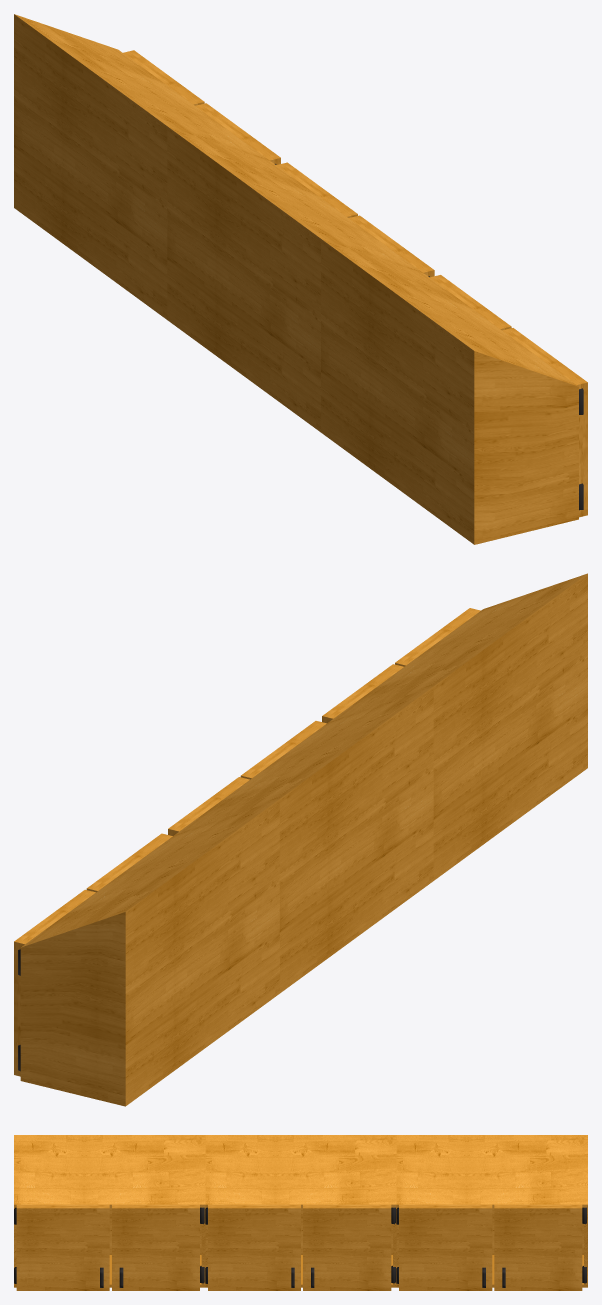
Rendered from supply_cabinets_2.fbx.
3 renders of one model, top to bottom at view 1: azimuth 30°, elevation 25°; view 2: azimuth 150°, elevation 25°; view 3: azimuth 270°, elevation 25°, orthographic. The views are drawn at different scales.
Parts seen in each view (by area): view 1: cabinet, cabinet2, cabinet1, leftdoor, leftdoor1, leftdoor2, rightdoor2, rightdoor, rightdoor1; view 2: cabinet2, cabinet, cabinet1, rightdoor2, leftdoor2, leftdoor1, leftdoor, rightdoor, rightdoor1; view 3: cabinet, cabinet2, cabinet1, leftdoor, leftdoor2, leftdoor1, rightdoor2, rightdoor1, rightdoor.
Part boxes in pixels (x1,y1,x2,y2): cabinet: (321, 239, 578, 544); cabinet2: (14, 14, 271, 319); cabinet1: (167, 126, 424, 432); leftdoor: (502, 328, 587, 517); leftdoor1: (349, 215, 434, 277); leftdoor2: (195, 103, 280, 164); rightdoor2: (123, 50, 204, 105); rightdoor: (430, 275, 511, 330); rightdoor1: (276, 162, 357, 217); cabinet2: (20, 799, 279, 1106); cabinet: (329, 573, 587, 880); cabinet1: (175, 686, 433, 993); rightdoor2: (14, 889, 95, 1076); leftdoor2: (86, 833, 172, 892); leftdoor1: (240, 721, 326, 779); leftdoor: (395, 608, 480, 666); rightdoor: (322, 664, 403, 723); rightdoor1: (168, 777, 249, 835); cabinet: (14, 1135, 205, 1287); cabinet2: (396, 1135, 587, 1287); cabinet1: (205, 1135, 396, 1287); leftdoor: (16, 1204, 109, 1290); leftdoor2: (399, 1204, 492, 1290); leftdoor1: (208, 1204, 300, 1290); rightdoor2: (494, 1204, 582, 1290); rightdoor1: (303, 1204, 391, 1290); rightdoor: (112, 1204, 199, 1290).
Size of the model in its own units: 0.8942 by 1.3 by 5.62.
2 materials, 1 textured.
